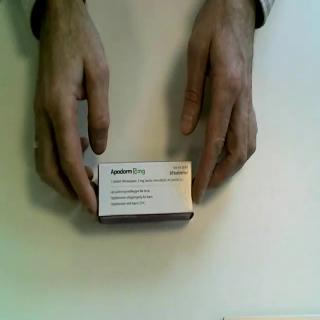apodonorm5mg: (96, 160, 196, 226)
